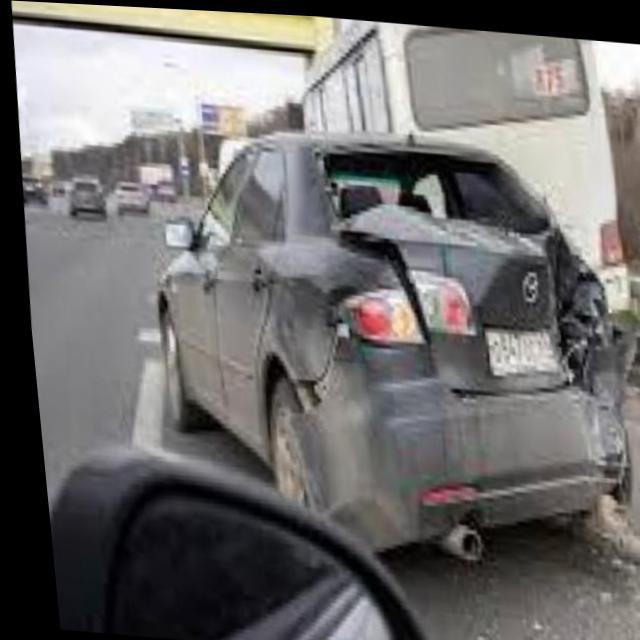crash: (326, 198, 630, 477)
dislocated part: (273, 278, 374, 546)
